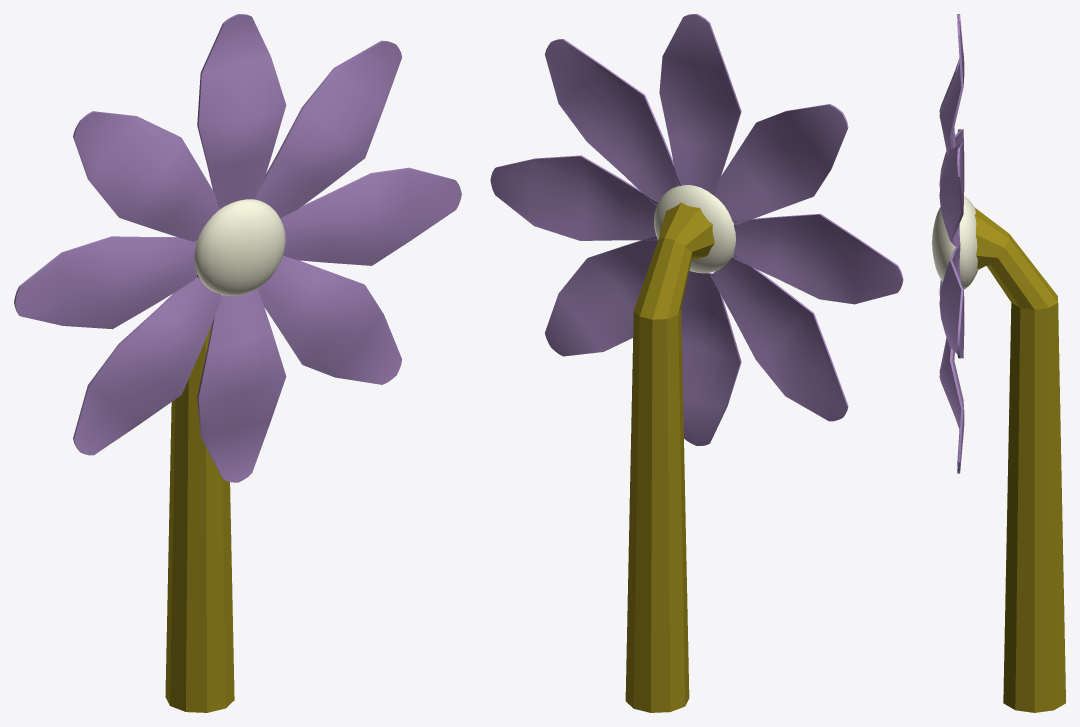
The model's file is FlowerV2.1.obj.
The picture shows the model from 3 angles, left to right: view 1: azimuth 30°, elevation 25°; view 2: azimuth 150°, elevation 25°; view 3: azimuth 270°, elevation 25°; orthographic projection. The views are drawn at different scales.
Parts seen in each view (by area): view 1: pCylinder4; view 2: pCylinder4; view 3: pCylinder4.
Boxes of the visible parts, left/top/right/bottom form: pCylinder4: left=14, top=14, right=461, bottom=712; pCylinder4: left=490, top=14, right=903, bottom=712; pCylinder4: left=932, top=14, right=1065, bottom=712.
Size of the model in its own units: 0.8236 by 1.26 by 0.2261.
Materials: 3 (1 with a texture image).
